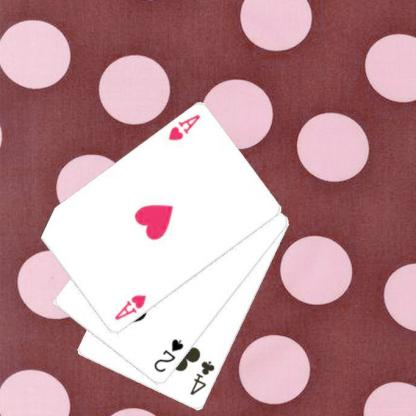2S: (150, 336, 184, 375)
4C: (187, 358, 217, 397)
AH: (165, 112, 202, 142), (112, 292, 148, 322)
